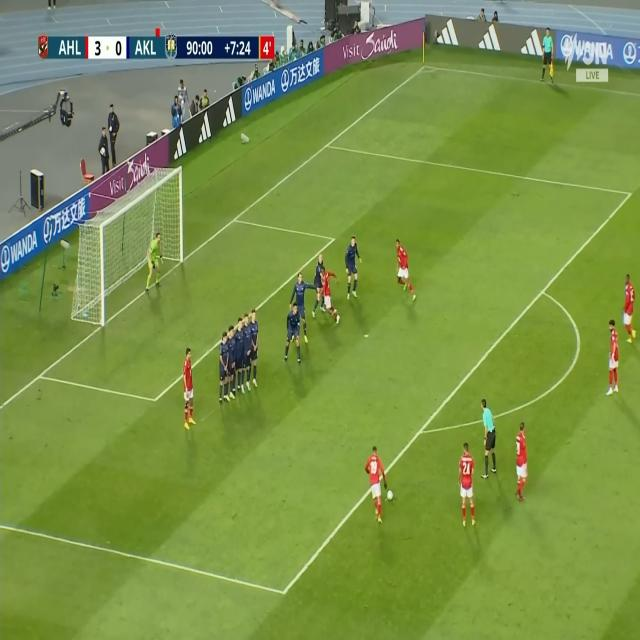Ball: (386, 490, 393, 503)
Keeper: (145, 233, 163, 295)
Player: (288, 273, 320, 344), (366, 444, 386, 522), (460, 444, 477, 530), (395, 239, 416, 301), (318, 267, 340, 325), (181, 350, 196, 430), (284, 302, 302, 366), (514, 422, 528, 500), (346, 235, 362, 302), (623, 272, 636, 346), (608, 319, 620, 398), (312, 254, 326, 317), (250, 308, 258, 388), (227, 325, 235, 403), (220, 331, 228, 404), (243, 311, 250, 393), (235, 317, 242, 396)
Ref: (481, 399, 498, 476), (541, 29, 554, 84)
